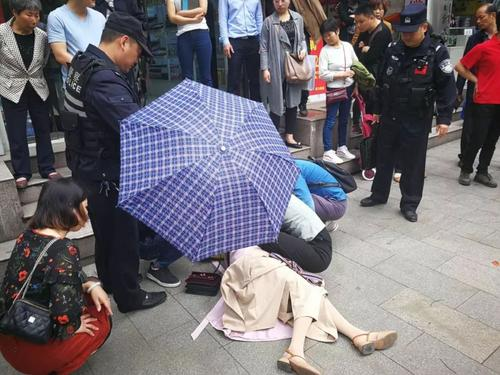10+: (2, 1, 499, 375)
down: (207, 222, 397, 375)
